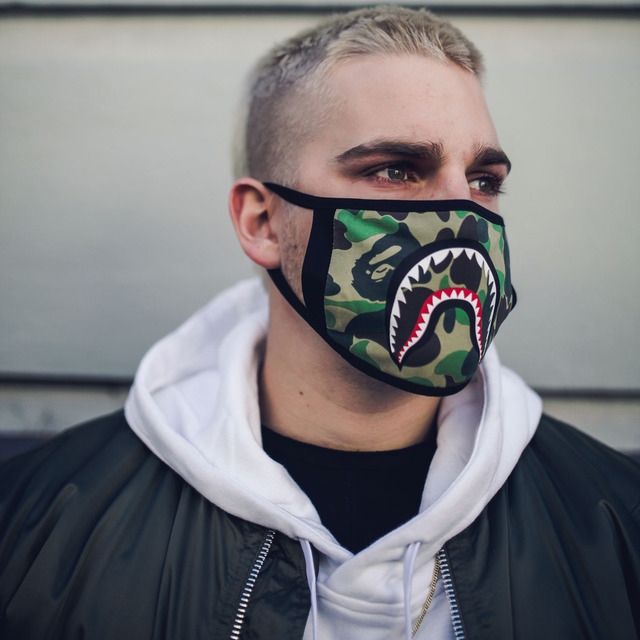mask: (326, 191, 510, 385)
